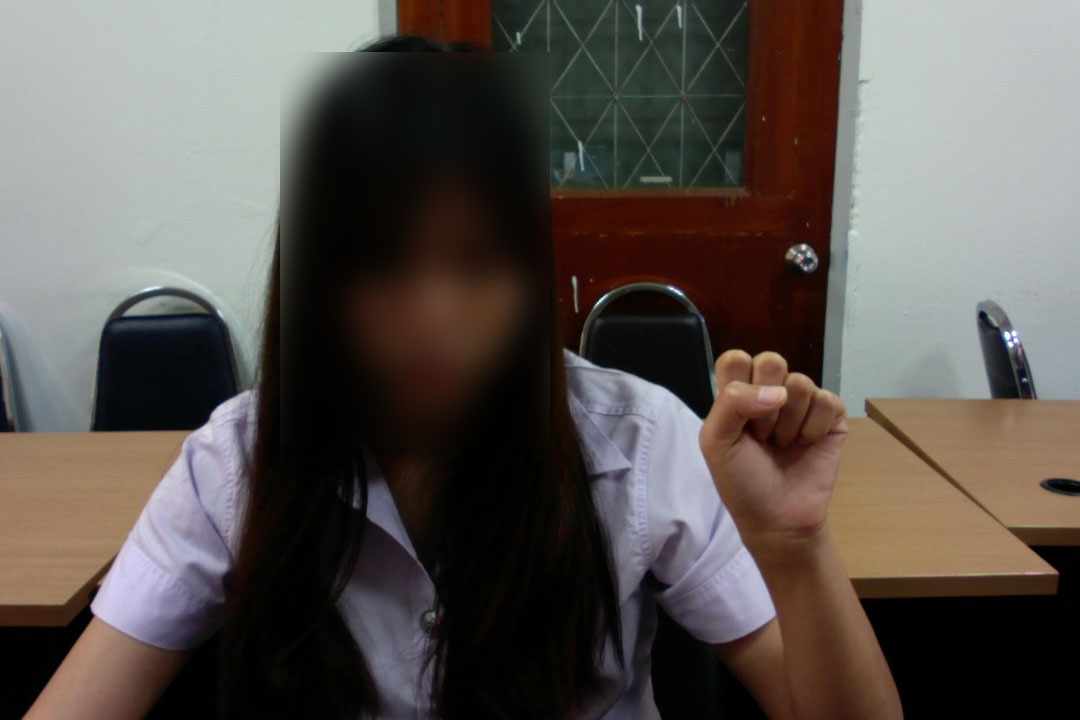sor: (690, 333, 856, 547)
